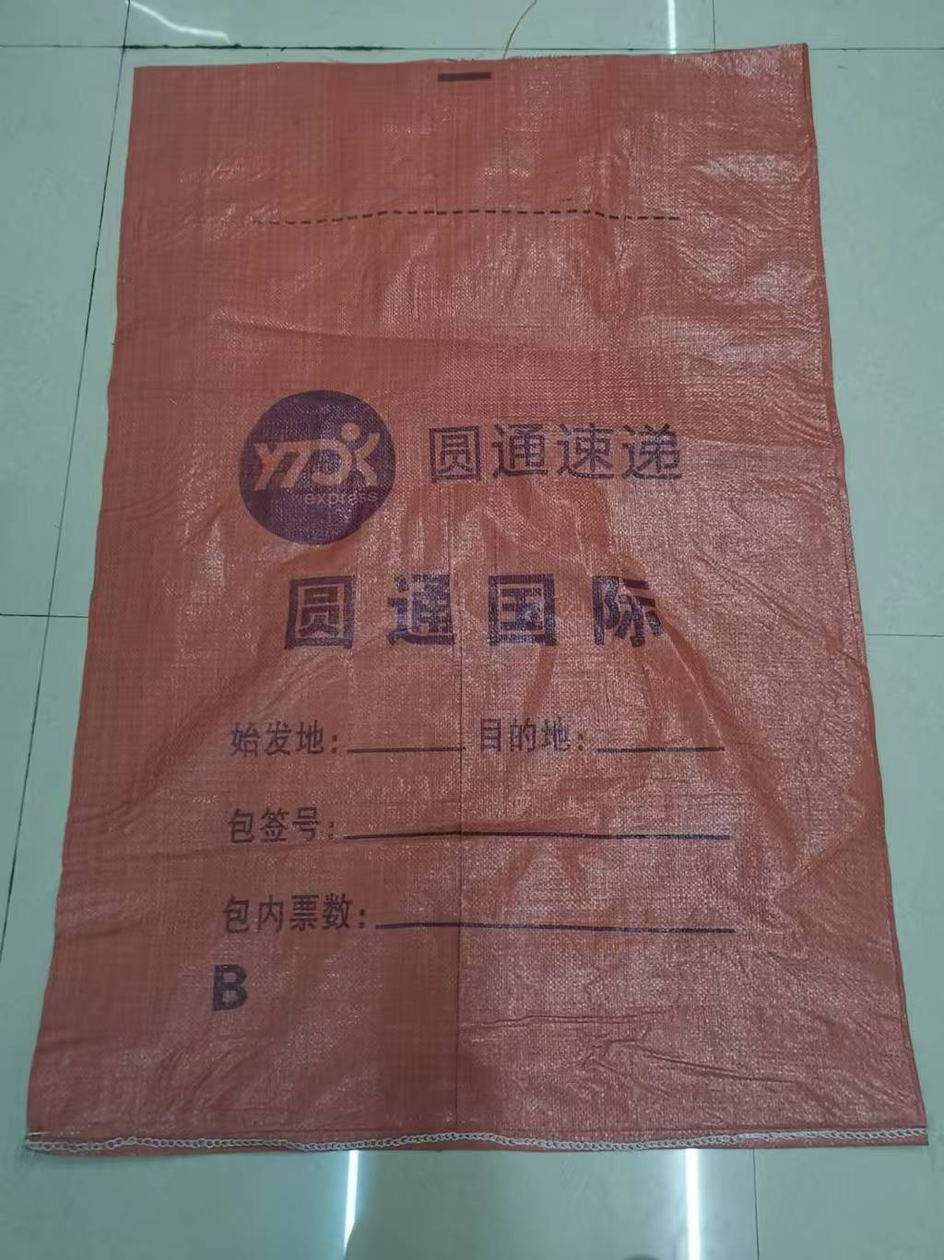塑料袋: (28, 47, 921, 1148)
